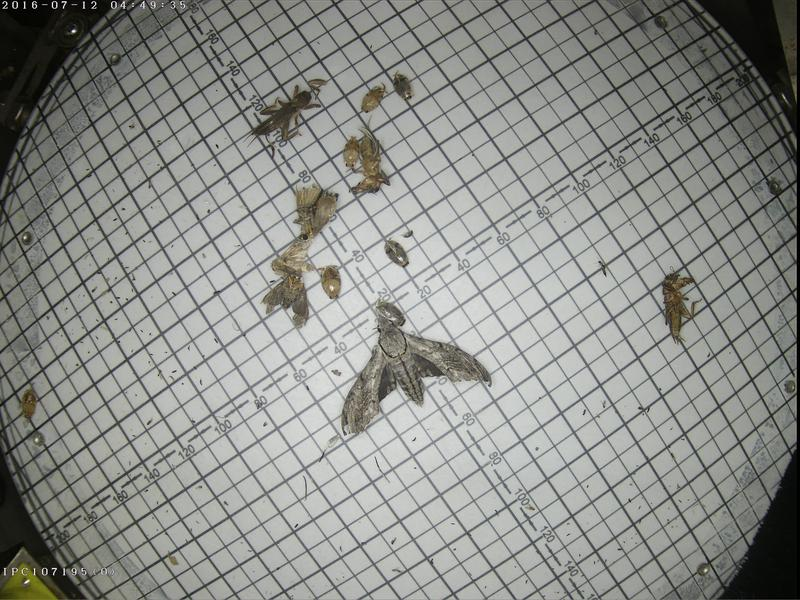Gryllotalpa orientalis: (241, 81, 322, 155), (349, 115, 389, 202), (659, 265, 698, 345)
